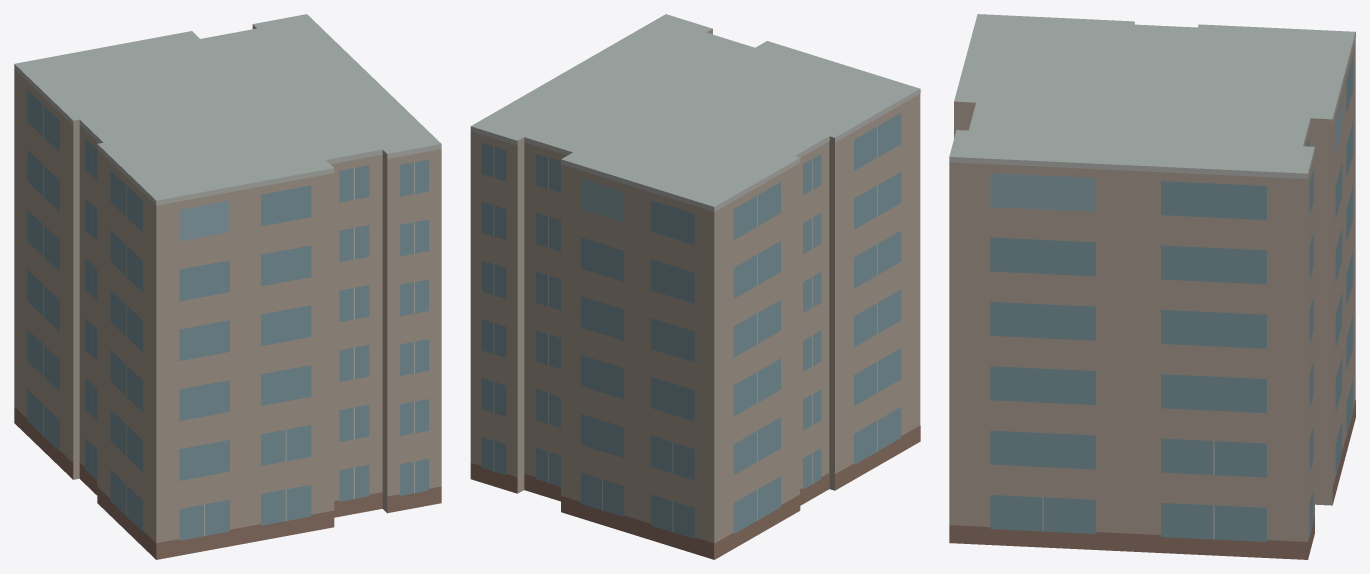
The model's file is survey-upis-32567030.glb.
The picture shows the model from 3 angles, left to right: view 1: azimuth 30°, elevation 25°; view 2: azimuth 150°, elevation 25°; view 3: azimuth 270°, elevation 25°; orthographic projection. The views are drawn at different scales.
Visible parts, largest first — view 1: survey-upis-32567030.tmp; view 2: survey-upis-32567030.tmp; view 3: survey-upis-32567030.tmp.
Boxes of the visible parts, x1,y1,x2,y2 form: survey-upis-32567030.tmp: (14, 14, 441, 559); survey-upis-32567030.tmp: (470, 14, 920, 559); survey-upis-32567030.tmp: (949, 14, 1355, 559).
Bounding box in the file's own units: 15.35 × 17.3 × 16.51.
